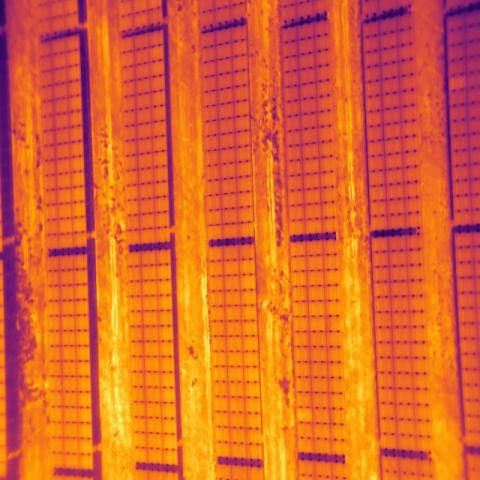fault: (296, 407, 312, 422)
